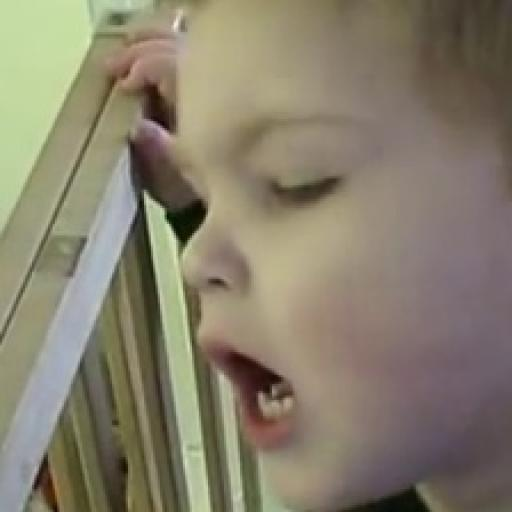Autism: (133, 9, 512, 512)
